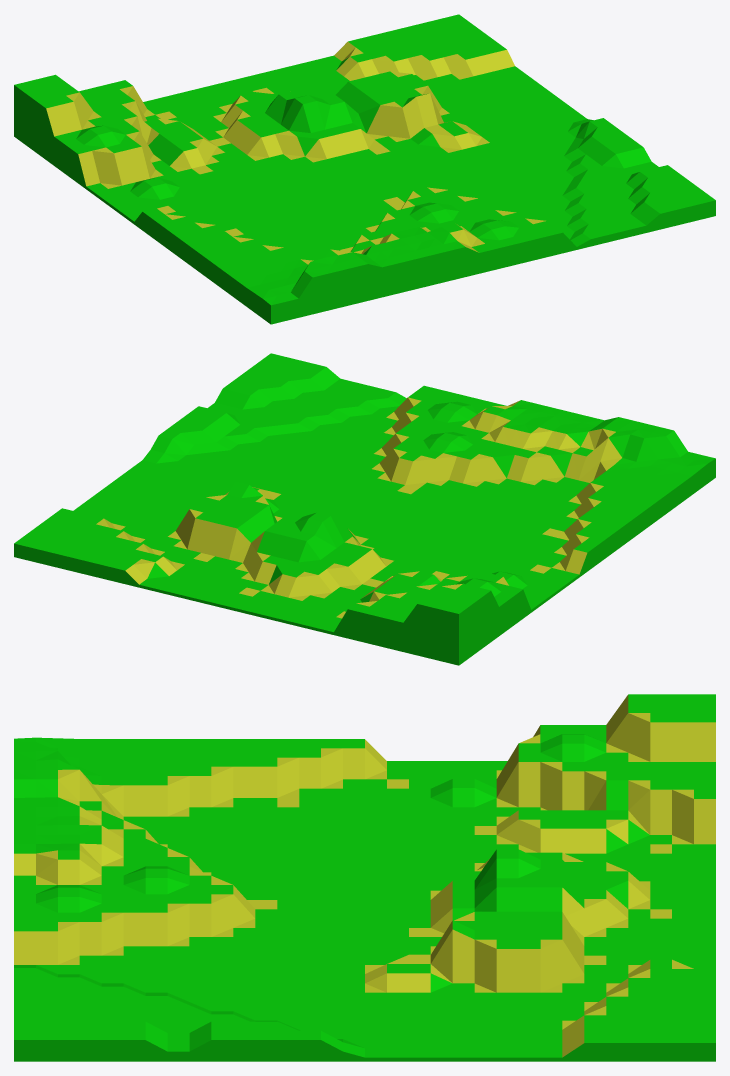
File: world.obj
3 views of the same model, one above another, from view 1: azimuth 30°, elevation 25°; view 2: azimuth 150°, elevation 25°; view 3: azimuth 270°, elevation 25° (orthographic). The views are drawn at different scales.
Visible parts, largest first — view 1: Cube; view 2: Cube; view 3: Cube.
Boxes of the visible parts, x1,y1,x2,y2 form: Cube: (14,14,715,324); Cube: (14,353,715,665); Cube: (14,694,715,1061).
Bounding box in the file's own units: 8 × 0.887 × 8.
